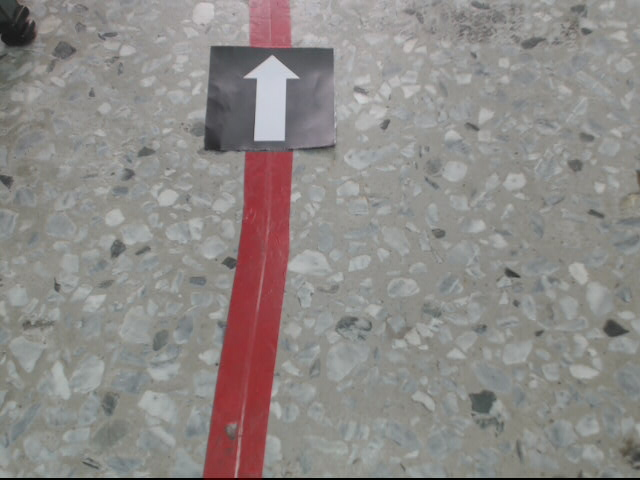straight: (203, 43, 342, 151)
